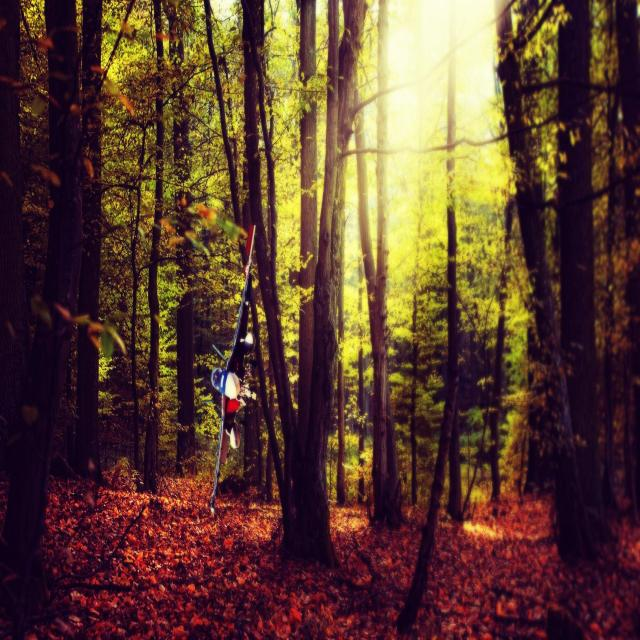airplane: (208, 222, 258, 516)
